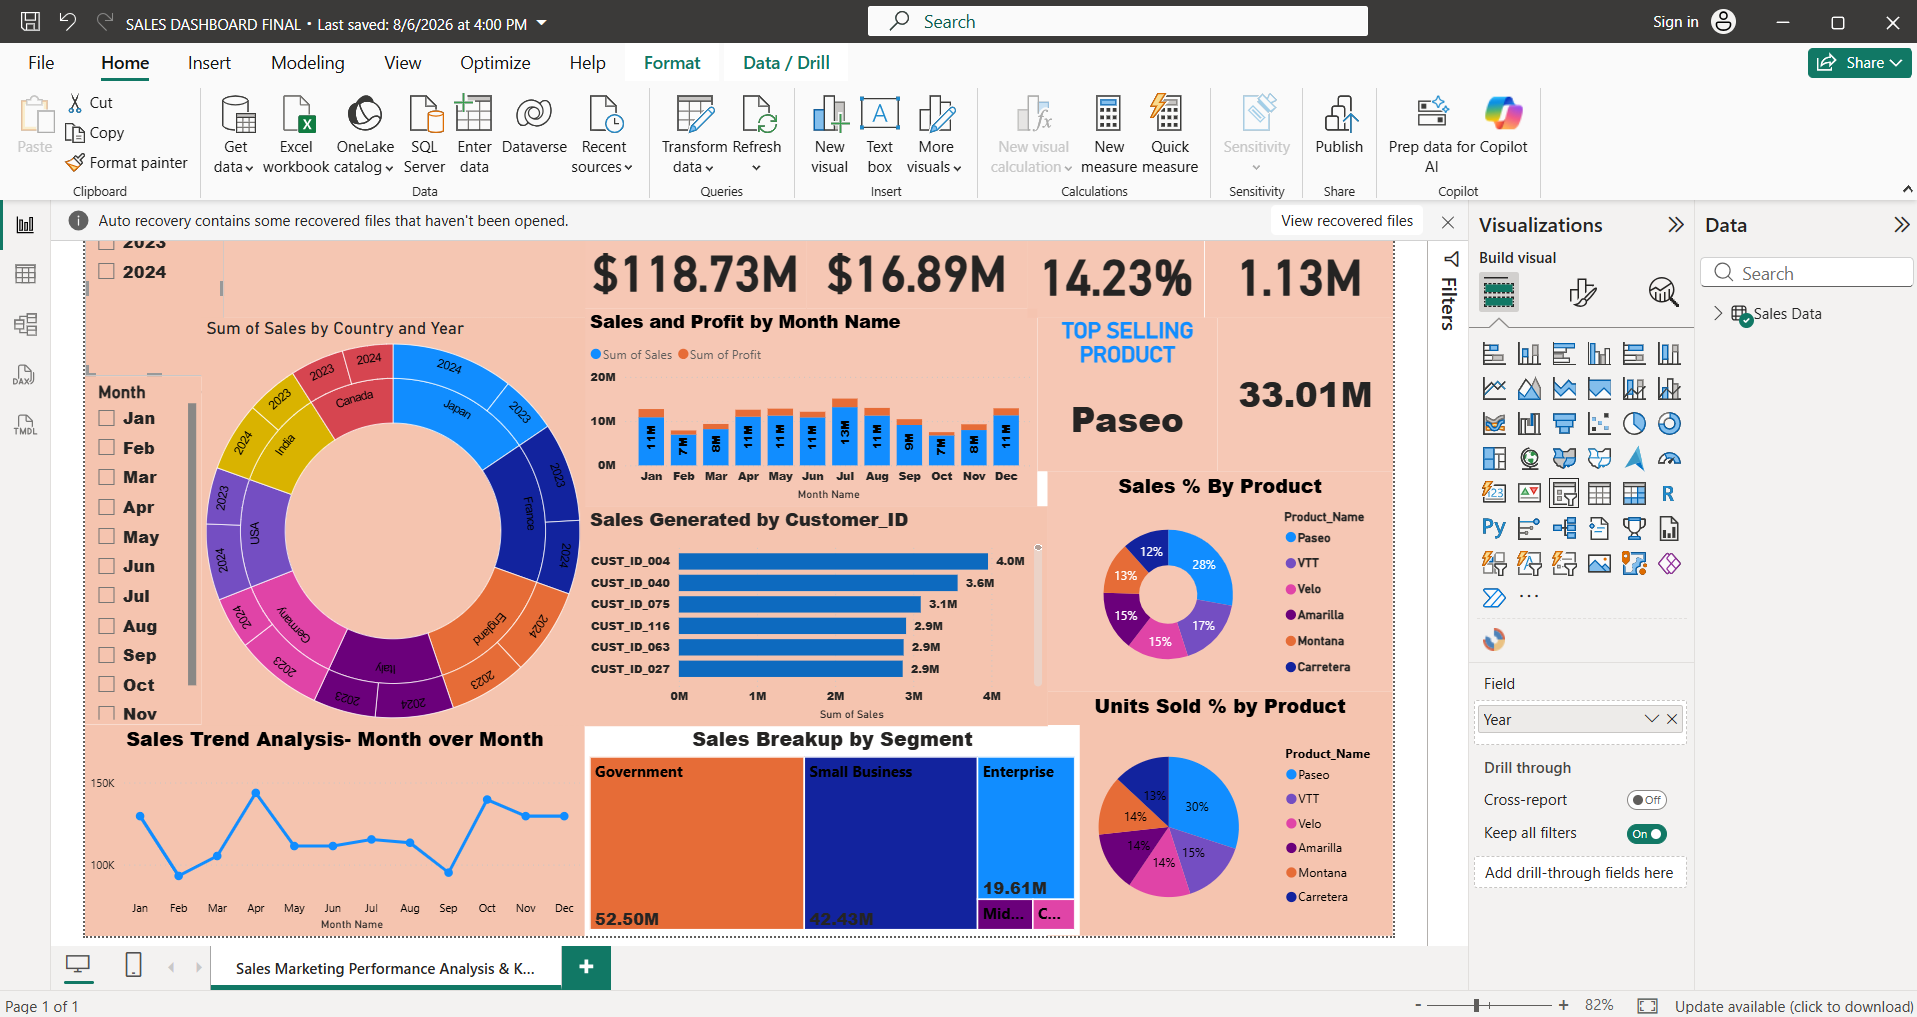

What the dashboard file says about the page in this screenshot:
{"tool":"powerbi","page":{"name":"Sales Marketing Performance Analysis & KPI Dashboard","canvas":[1280,720],"ordinal":0},"visuals":[{"type":"card","title":"TOTAL SALES","fields":{"Values":["Sum(Sales Data.Sales)"]},"box":[489.1,0,216.4,106.4],"z":0},{"type":"card","title":"PROFIT(%)","fields":{"Values":["Sales Data.PROFIT(%)"]},"box":[921.9,0,173.1,115.4],"z":1000},{"type":"card","title":"UNIT SOLD","fields":{"Values":["Sum(Sales Data.Units Sold)"]},"box":[1095.7,0,184.6,114.9],"z":2000},{"type":"card","title":"PROFIT($)","fields":{"Values":["Sum(Sales Data.Profit)"]},"box":[705.6,0,216.4,106.4],"z":3000},{"type":"card","title":"TOP SELLING PRODUCT","fields":{"Values":["Min(Sales Data.Product_Name)"]},"box":[931.8,114.9,176.1,150.4],"z":4000},{"type":"card","title":"TOP SELLING PRODUCT","fields":{"Values":["Sum(Sales Data.Sales)"]},"box":[1107.9,114.9,172.4,150.4],"z":5000},{"type":"donutChart","title":"Sales % By Product","fields":{"Category":["Sales Data.Product_Name"],"Y":["Sum(Sales Data.Sales)"]},"box":[942.1,265.5,337.6,215],"z":6000},{"type":"pieChart","title":"Units Sold % by Product","fields":{"Category":["Sales Data.Product_Name"],"Y":["Sum(Sales Data.Units Sold)"]},"box":[942.1,480.4,337.6,239.5],"z":7000},{"type":"treemap","title":"Sales Breakup by Segment","fields":{"Group":["Sales Data.Segment"],"Values":["Sum(Sales Data.Sales)"]},"box":[489.1,513.6,484.2,205.4],"z":8000},{"type":"lineChart","title":"Sales Trend Analysis- Month over Month","fields":{"Category":["Sales Data.Month Name","Sales Data.Year"],"Y":["Sum(Sales Data.Year)"]},"box":[0,513.6,489.1,206.7],"z":9000},{"type":"slicer","fields":{"Values":["Sales Data.Year"]},"box":[0,0,135.7,172.4],"z":10000},{"type":"slicer","fields":{"Values":["Sales Data.Month Name"]},"box":[0,172.4,113.7,341.2],"z":11000},{"type":"textbox","box":[135.7,0,353.4,114.9],"z":12000},{"type":"clusteredBarChart","title":"Sales Generated by Customer_ID","fields":{"Category":["Sales Data.Customer_ID"],"Y":["Sum(Sales Data.Sales)"]},"box":[489.1,299.6,452.4,215.2],"z":13000},{"type":"columnChart","title":" Sales and Profit by Month Name","fields":{"Category":["Sales Data.Month Name"],"Y":["Sum(Sales Data.Sales)","Sum(Sales Data.Profit)"]},"box":[489.1,106.4,442.7,193.2],"z":14000},{"type":"Sunburst1445472000808","fields":{"Values":["Sum(Sales Data.Sales)"],"Nodes":["Sales Data.Country","Sales Data.Year"]},"box":[113.7,114.9,375.4,398.6],"z":15000}]}

Visuals, with their boxes on the page's 1280x720 design canvas (x1, y1, x2, y2). These are canvas units, not pixel positions in the 1917x1017 screenshot, which may show the page scaled, cropped or inside an application window:
"TOTAL SALES" card: {"x1": 489, "y1": 0, "x2": 706, "y2": 106}
"PROFIT(%)" card: {"x1": 922, "y1": 0, "x2": 1095, "y2": 115}
"UNIT SOLD" card: {"x1": 1096, "y1": 0, "x2": 1280, "y2": 115}
"PROFIT($)" card: {"x1": 706, "y1": 0, "x2": 922, "y2": 106}
"TOP SELLING PRODUCT" card: {"x1": 932, "y1": 115, "x2": 1108, "y2": 265}
"TOP SELLING PRODUCT" card: {"x1": 1108, "y1": 115, "x2": 1280, "y2": 265}
"Sales % By Product" donutChart: {"x1": 942, "y1": 266, "x2": 1280, "y2": 480}
"Units Sold % by Product" pieChart: {"x1": 942, "y1": 480, "x2": 1280, "y2": 720}
"Sales Breakup by Segment" treemap: {"x1": 489, "y1": 514, "x2": 973, "y2": 719}
"Sales Trend Analysis- Month over Month" lineChart: {"x1": 0, "y1": 514, "x2": 489, "y2": 720}
slicer - Sales Data.Year: {"x1": 0, "y1": 0, "x2": 136, "y2": 172}
slicer - Sales Data.Month Name: {"x1": 0, "y1": 172, "x2": 114, "y2": 514}
textbox: {"x1": 136, "y1": 0, "x2": 489, "y2": 115}
"Sales Generated by Customer_ID" clusteredBarChart: {"x1": 489, "y1": 300, "x2": 942, "y2": 515}
" Sales and Profit by Month Name" columnChart: {"x1": 489, "y1": 106, "x2": 932, "y2": 300}
Sunburst1445472000808 - Sum(Sales Data.Sales) x Sales Data.Country: {"x1": 114, "y1": 115, "x2": 489, "y2": 514}
